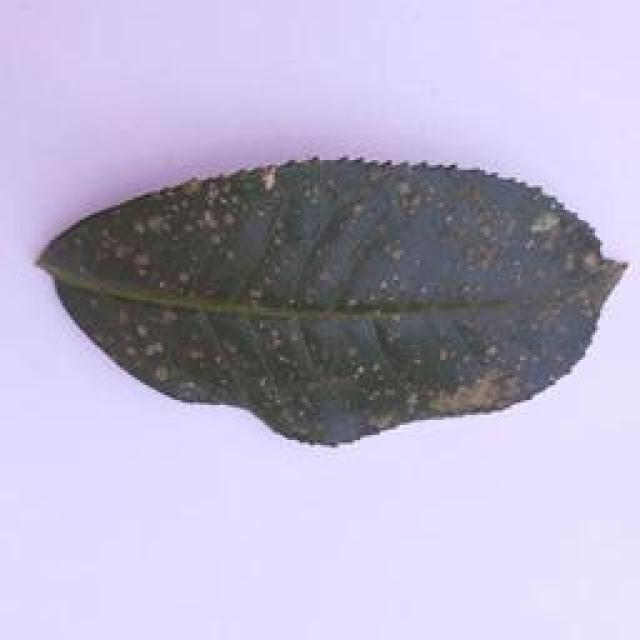Algal Leaf Spot: (39, 153, 624, 455)
